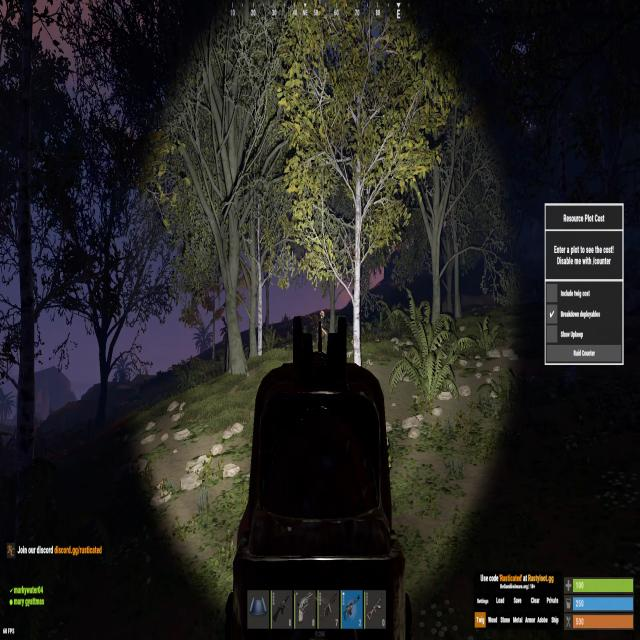Player: (316, 309, 328, 345)
